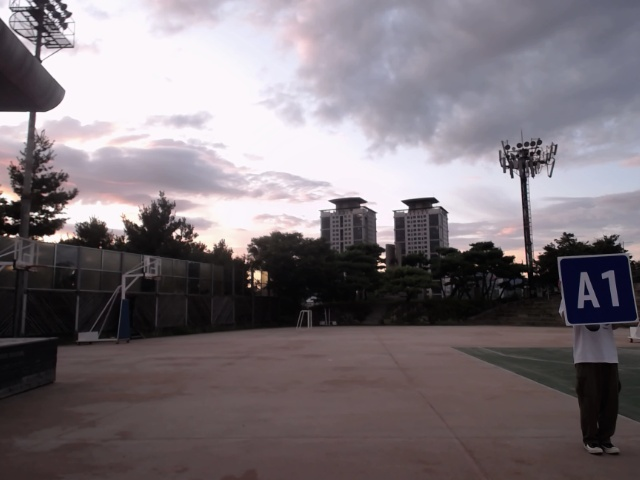delivery_a1: (558, 254, 638, 325)
